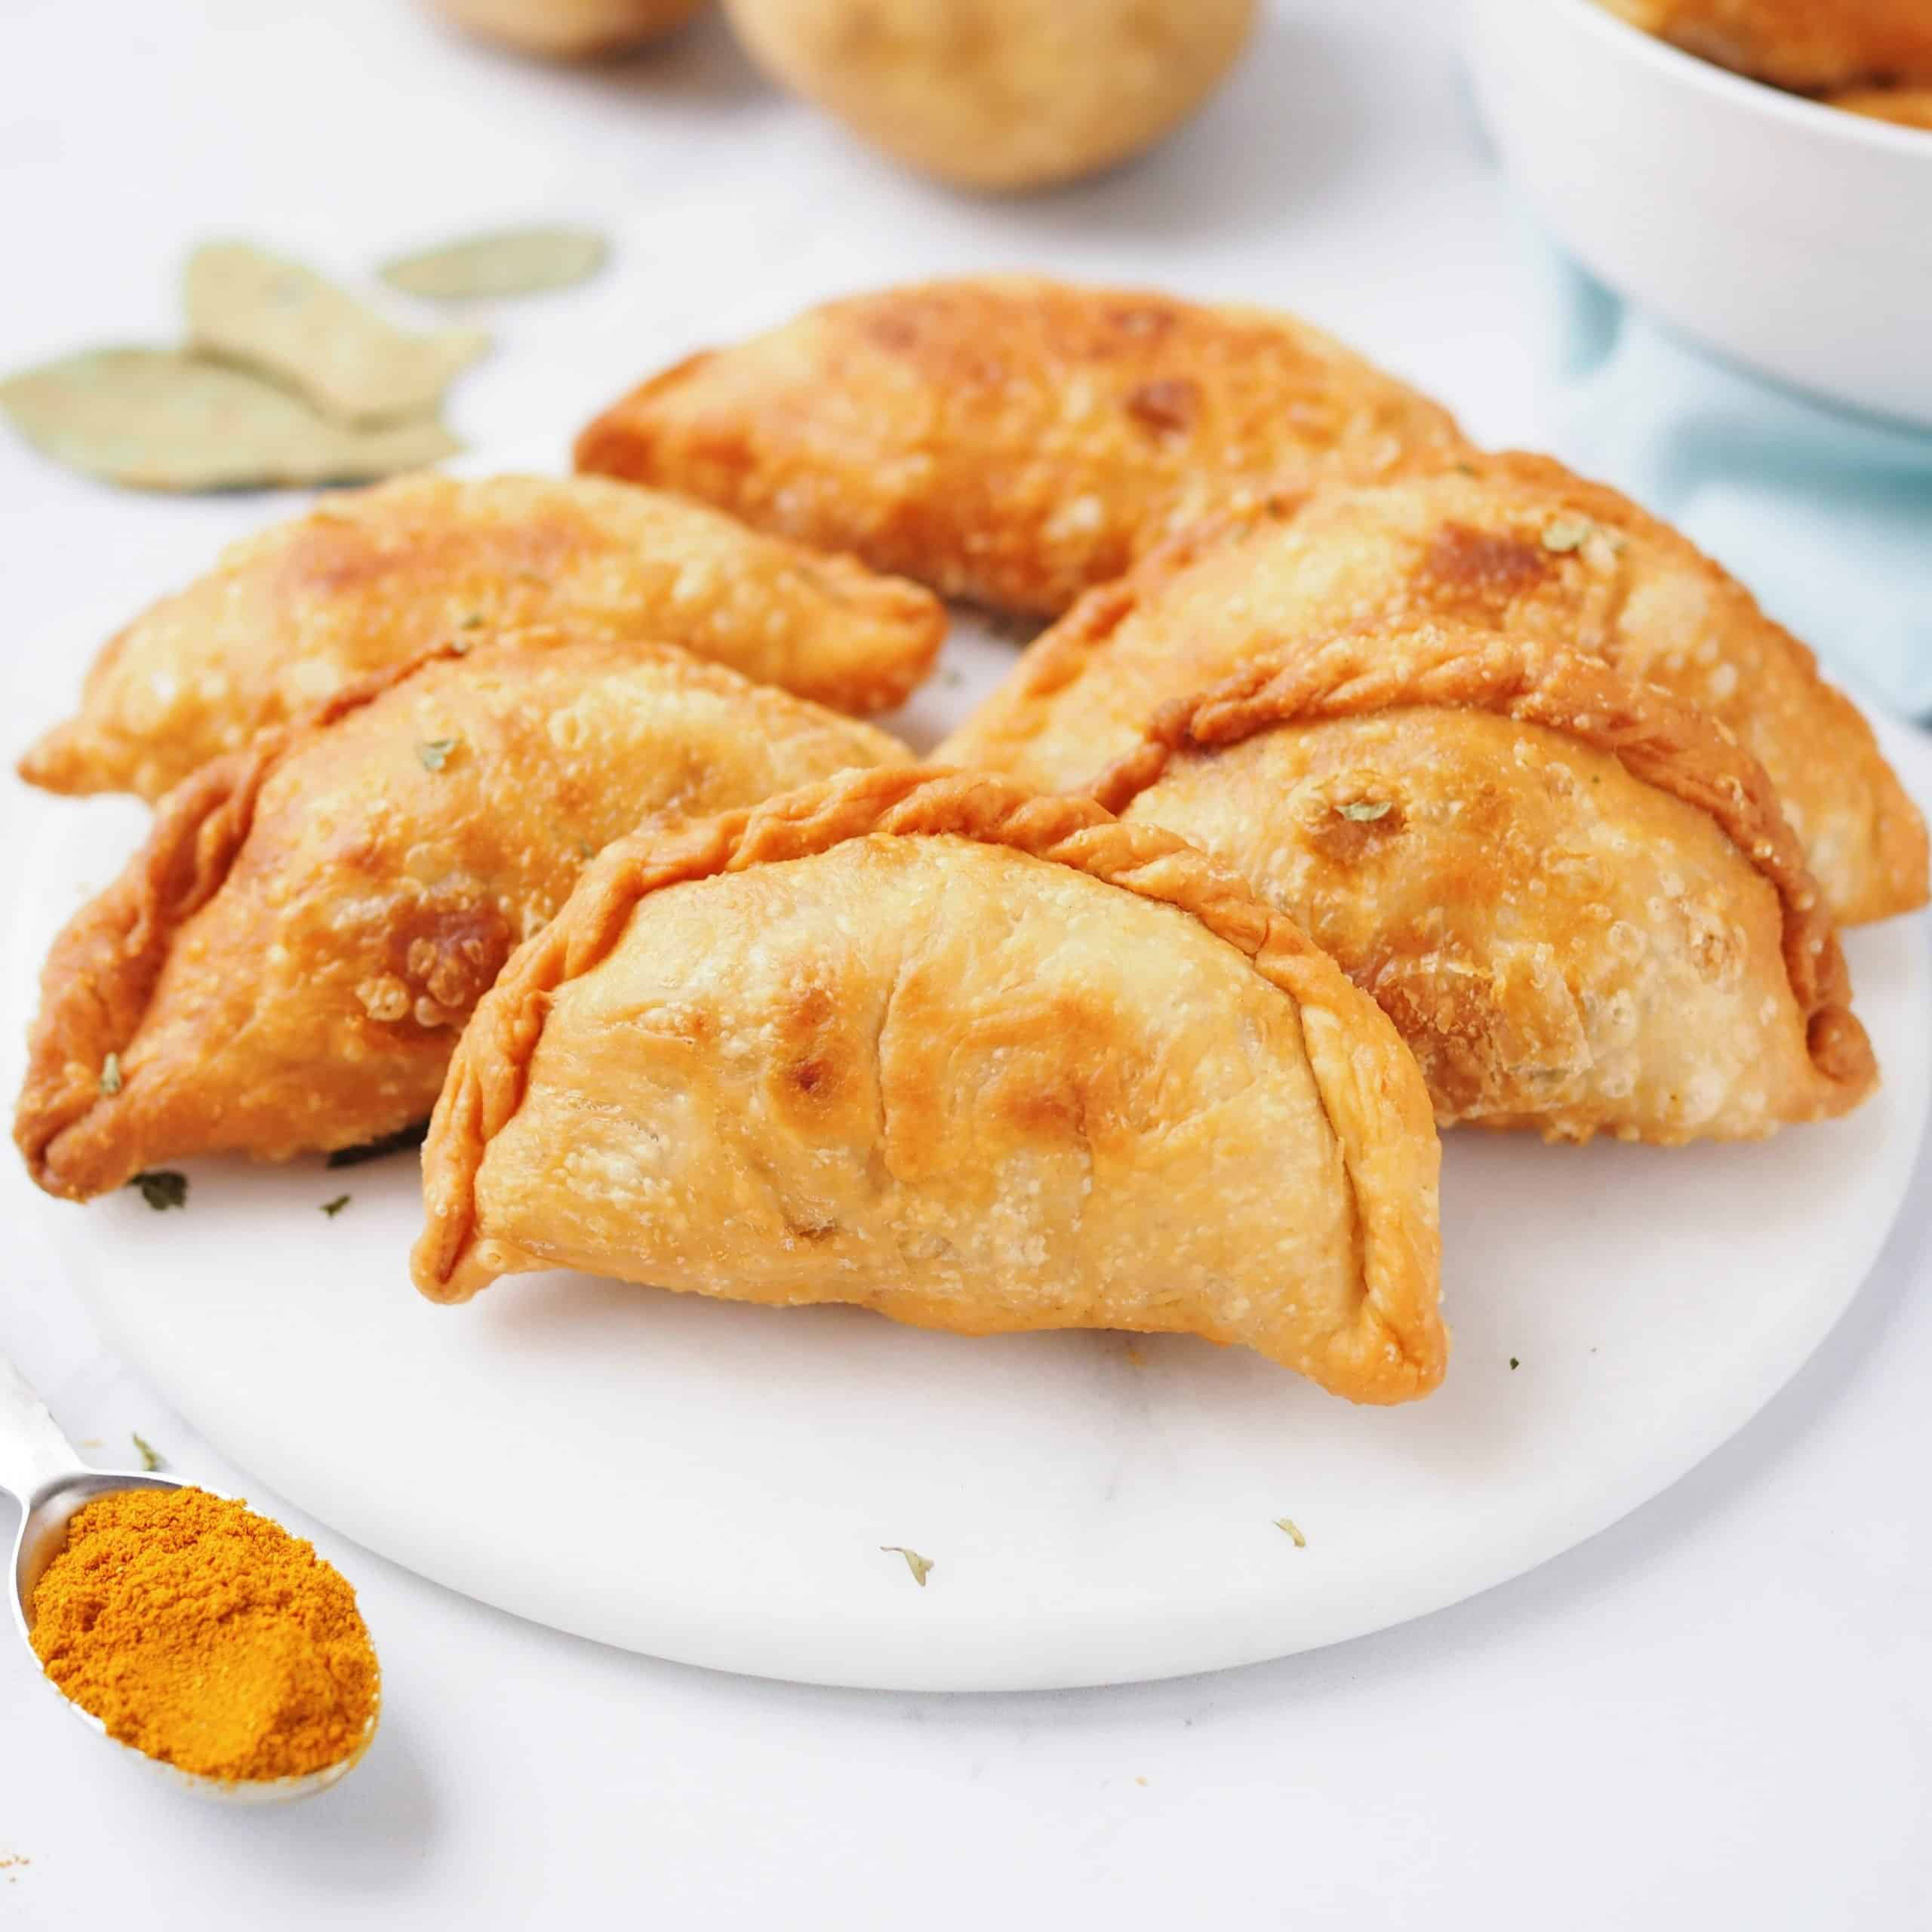Curry Puff: (416, 782, 1465, 1456), (879, 449, 1923, 977), (0, 644, 934, 1173), (1077, 653, 1884, 1187), (547, 205, 1506, 593), (30, 479, 931, 748)
